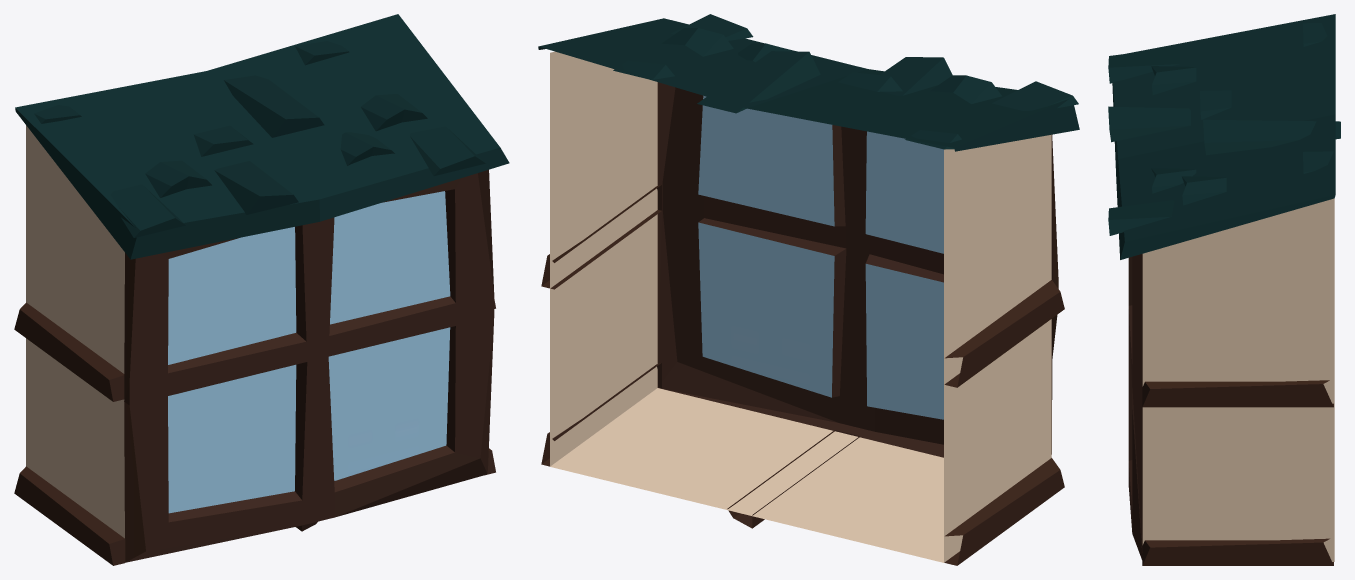
Rendered from SM_L_G_Home_Pop_Up_Square_Window.fbx.
The picture shows the model from 3 angles, left to right: view 1: azimuth 30°, elevation 25°; view 2: azimuth 150°, elevation 25°; view 3: azimuth 270°, elevation 25°; orthographic projection. The views are drawn at different scales.
Parts seen in each view (by area): view 1: SM_L_G_Home_Pop_Up_Square_Window; view 2: SM_L_G_Home_Pop_Up_Square_Window; view 3: SM_L_G_Home_Pop_Up_Square_Window.
Part boxes in pixels (bbox=[...]): SM_L_G_Home_Pop_Up_Square_Window: bbox=[14, 14, 509, 565]; SM_L_G_Home_Pop_Up_Square_Window: bbox=[538, 14, 1079, 565]; SM_L_G_Home_Pop_Up_Square_Window: bbox=[1108, 14, 1340, 565].
Bounding box in the file's own units: 1.03 × 1.02 × 0.5589.
